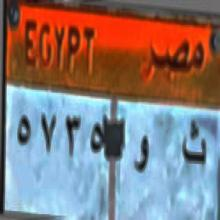3: (62, 109, 82, 168)
5: (86, 114, 105, 162), (16, 111, 32, 157)
7: (38, 114, 58, 160)
thaa: (180, 116, 209, 174)
waw: (130, 132, 156, 182)
